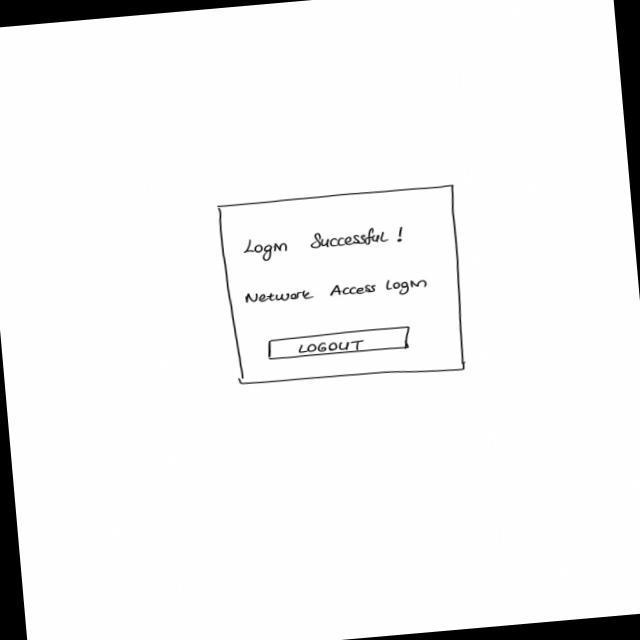button: (266, 325, 415, 362)
container: (215, 184, 470, 392)
label: (243, 225, 407, 265), (243, 276, 432, 310)
